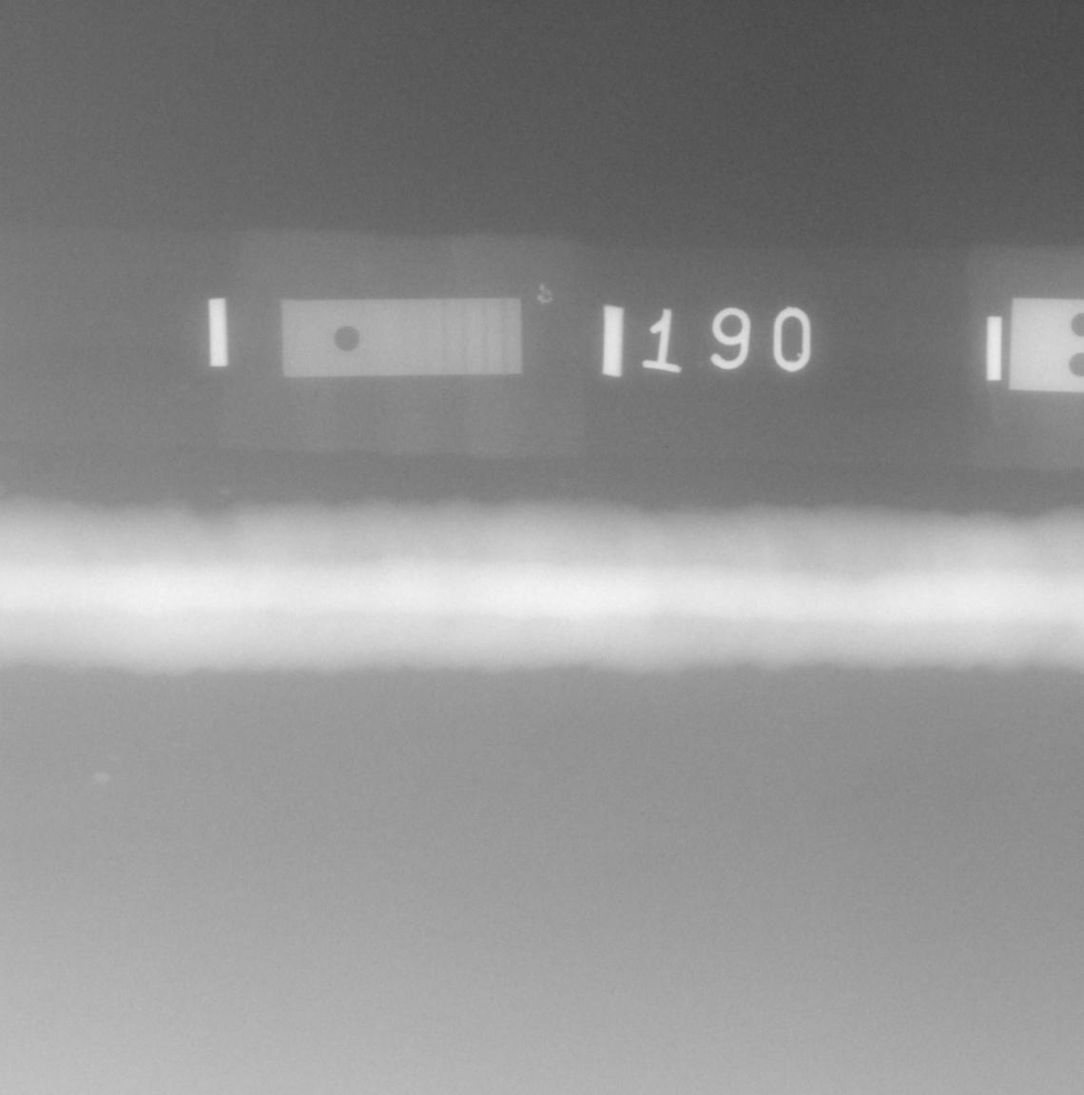Reference Standard 1: (281, 299, 522, 377)
